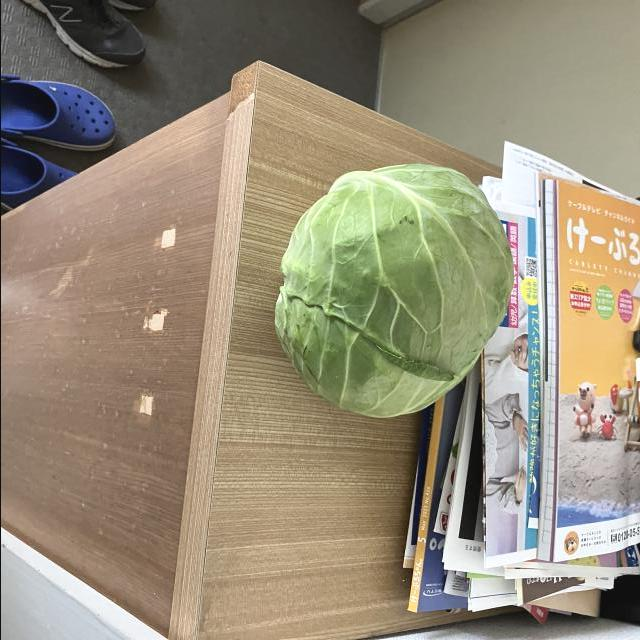cabbage: (268, 161, 516, 421)
